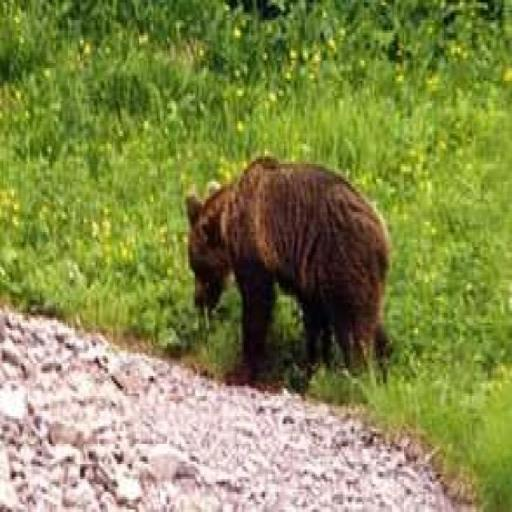Bear: (182, 154, 392, 384)
